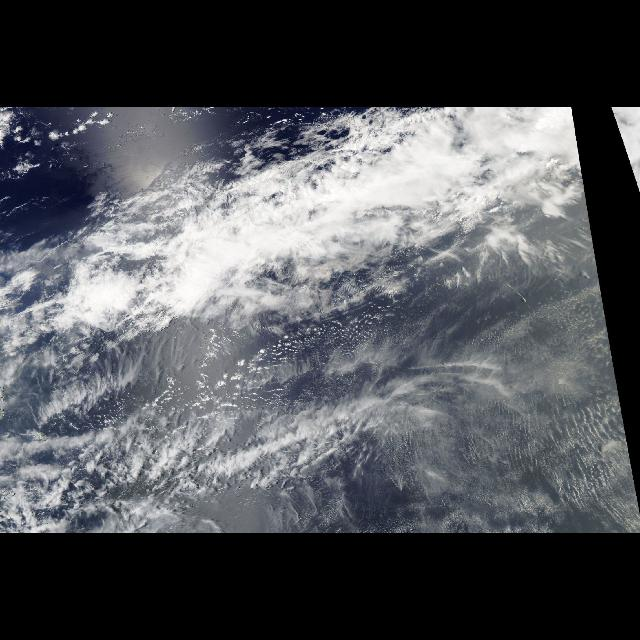Sugar: (236, 289, 640, 533)
